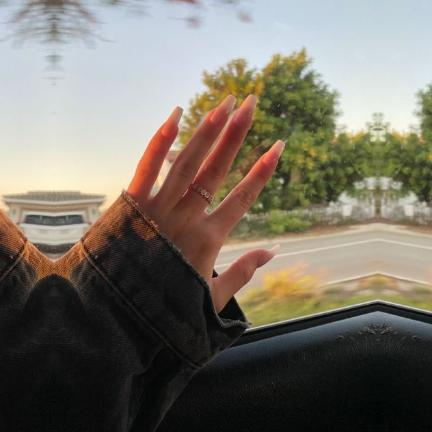Nail: (210, 94, 237, 125), (234, 94, 258, 126), (161, 106, 184, 137), (263, 139, 286, 165), (257, 244, 281, 268)
